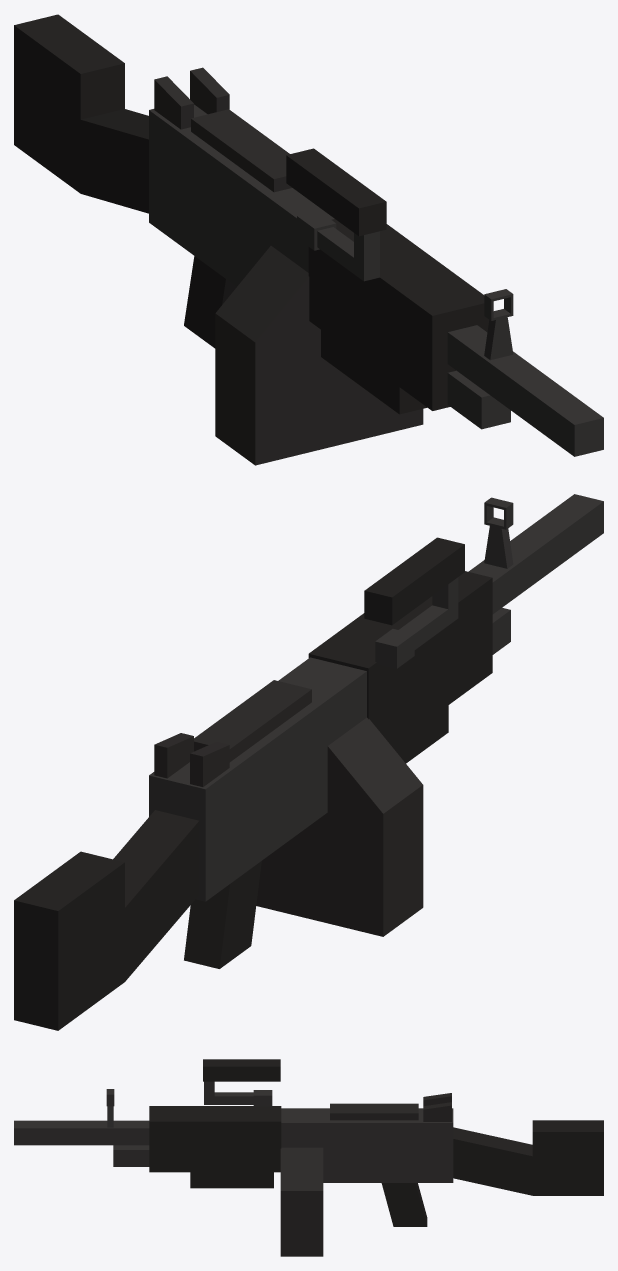
Rendered from LMGsaw.FBX.
3 renders of one model, top to bottom at view 1: azimuth 30°, elevation 25°; view 2: azimuth 150°, elevation 25°; view 3: azimuth 270°, elevation 25°, orthographic. The views are drawn at different scales.
Parts seen in each view (by area): view 1: LMGsaw, SawMag; view 2: LMGsaw, SawMag; view 3: LMGsaw, SawMag.
Part boxes in pixels (bbox=[...]): LMGsaw: bbox=[14, 14, 603, 456]; SawMag: bbox=[215, 246, 423, 465]; LMGsaw: bbox=[14, 494, 603, 1030]; SawMag: bbox=[256, 717, 423, 936]; LMGsaw: bbox=[14, 1059, 603, 1226]; SawMag: bbox=[280, 1147, 323, 1256].
Bounding box in the file's own units: 33.89 × 193 × 58.4.
